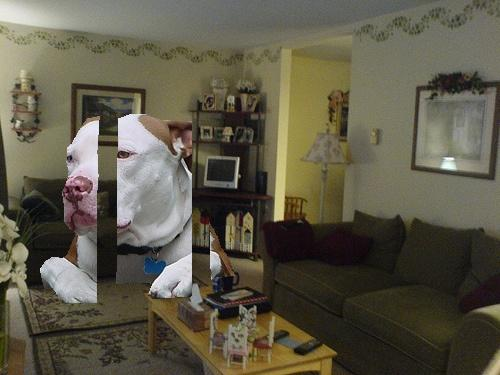tampered: (41, 115, 235, 303)
